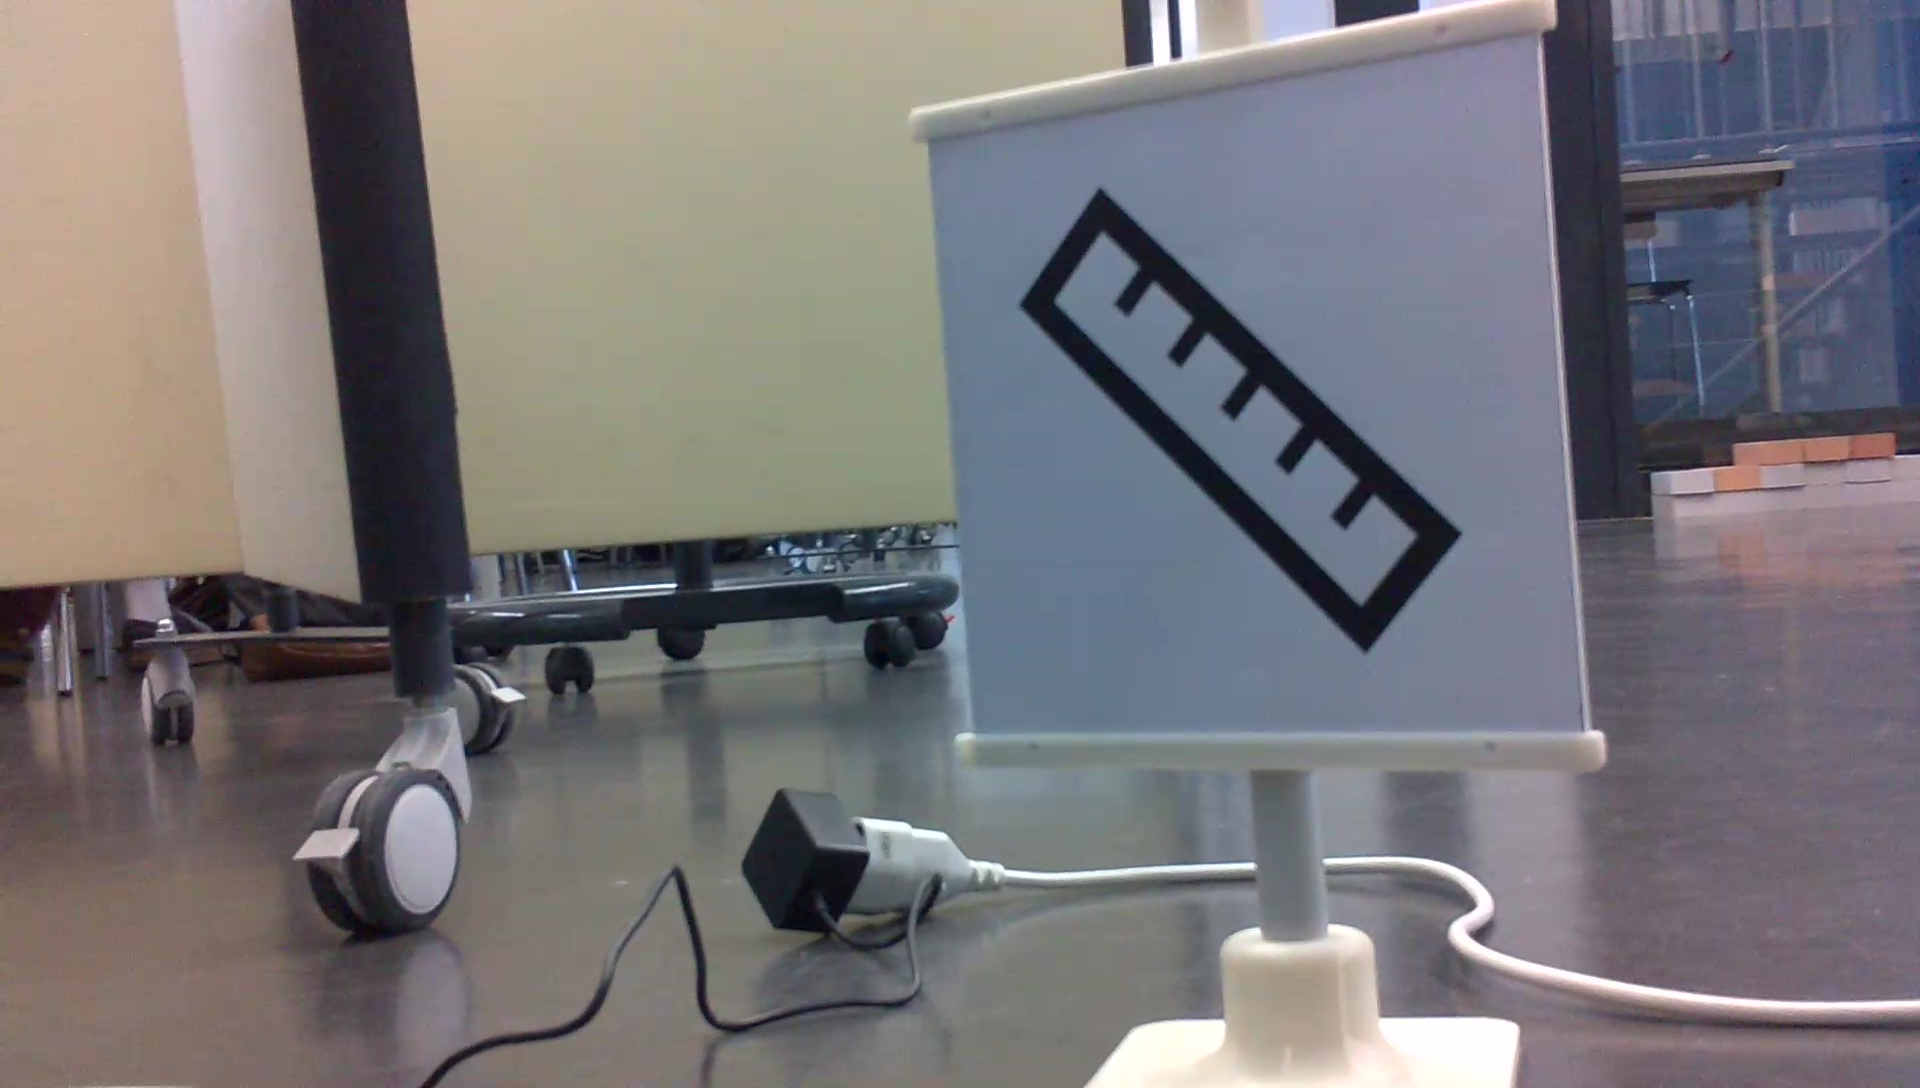ruler: (1014, 156, 1474, 667)
